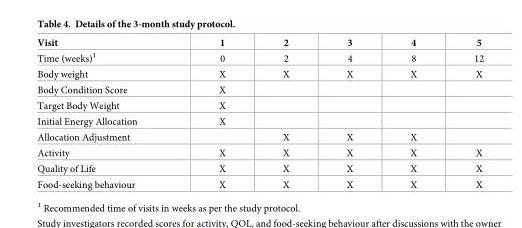table: (36, 37, 483, 189)
table column: (36, 37, 177, 189), (177, 37, 253, 189), (253, 37, 317, 189), (380, 37, 444, 189), (317, 37, 380, 189), (444, 37, 483, 189)
table column header: (36, 37, 483, 49)
table row: (36, 49, 483, 66), (36, 81, 483, 97), (36, 97, 483, 113), (36, 113, 483, 129), (36, 144, 483, 160), (36, 160, 483, 176), (36, 66, 483, 81), (36, 129, 483, 144), (36, 176, 483, 189), (36, 37, 483, 49)
